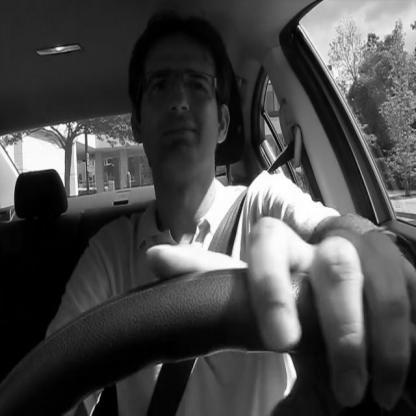seatbelt: (121, 2, 312, 266)
